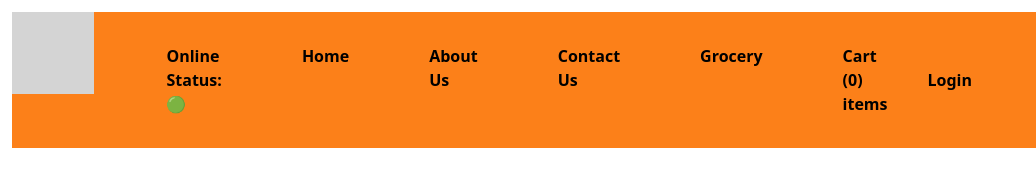
Test case: Should change login to logout
The image size is (1036, 172).
Click the button "Login" at (950, 80), box [928,44,972,116]
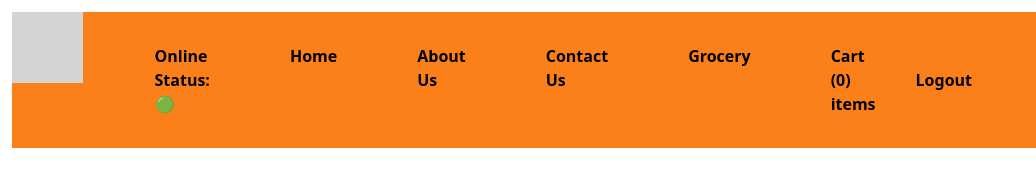
Now the button "Logout" is shown, box [916,44,972,116]
